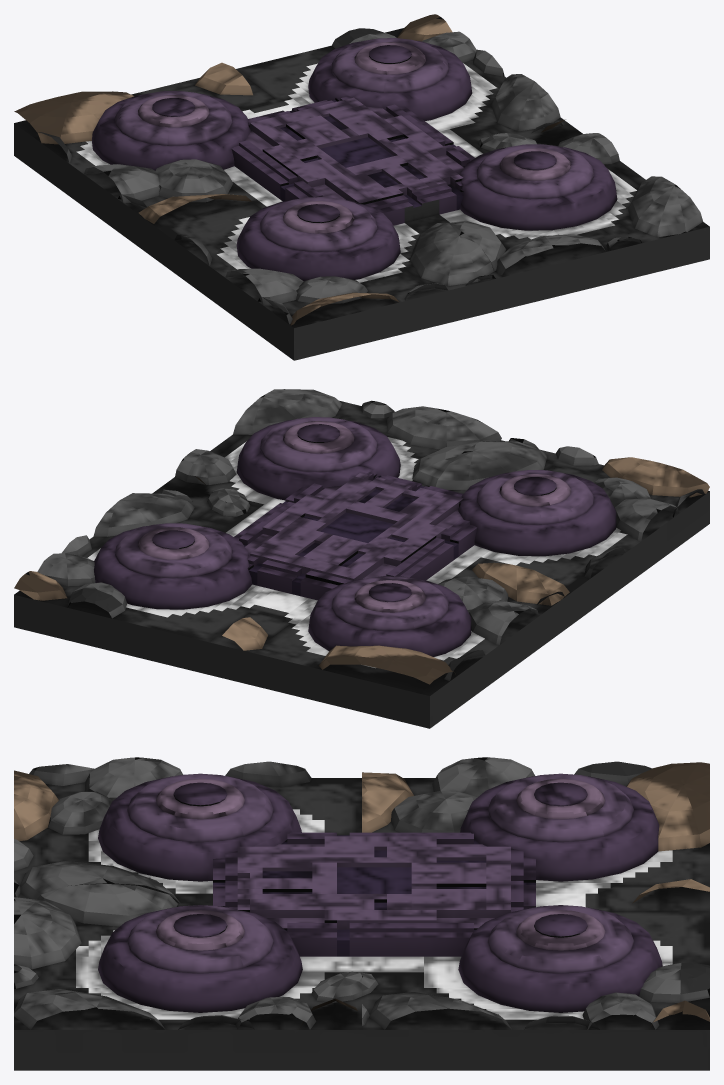
The model's file is tyrbld-purple-2x2.glb.
The picture shows the model from 3 angles, top to bottom: view 1: azimuth 30°, elevation 25°; view 2: azimuth 150°, elevation 25°; view 3: azimuth 270°, elevation 25°; orthographic projection. The views are drawn at different scales.
Parts seen in each view (by area): view 1: shapesz-tyrbld-purple-2x2-parts, shapesz-tyrbld-purple-2x2-deck; view 2: shapesz-tyrbld-purple-2x2-parts, shapesz-tyrbld-purple-2x2-deck; view 3: shapesz-tyrbld-purple-2x2-parts, shapesz-tyrbld-purple-2x2-deck.
Part boxes in pixels (x1,y1,x2,y2): shapesz-tyrbld-purple-2x2-parts: (14, 14, 709, 360); shapesz-tyrbld-purple-2x2-deck: (76, 63, 636, 282); shapesz-tyrbld-purple-2x2-parts: (14, 389, 709, 728); shapesz-tyrbld-purple-2x2-deck: (87, 437, 627, 668); shapesz-tyrbld-purple-2x2-parts: (14, 757, 709, 1070); shapesz-tyrbld-purple-2x2-deck: (76, 809, 672, 1019).
Bounding box in the file's own units: 4 × 0.6288 × 4.67.
8 materials, 8 textured.
